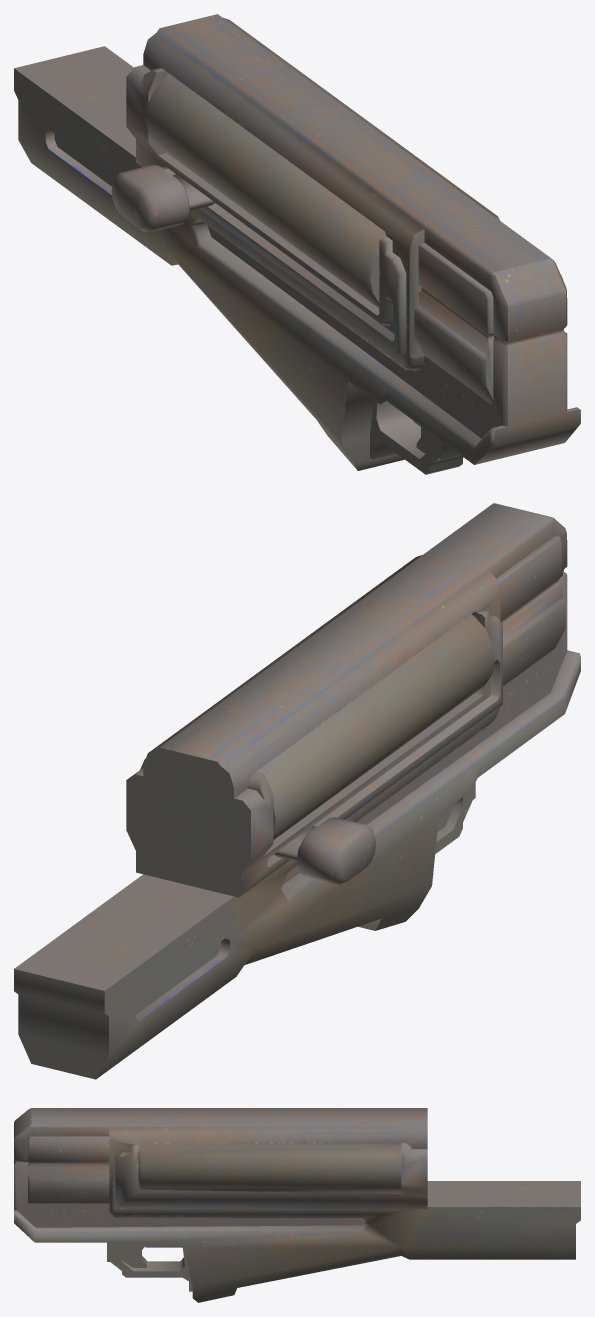
Rendered from body2.obj.
3 views of the same model, one above another, from view 1: azimuth 30°, elevation 25°; view 2: azimuth 150°, elevation 25°; view 3: azimuth 270°, elevation 25° (orthographic). The views are drawn at different scales.
Visible parts, largest first — view 1: body2; view 2: body2; view 3: body2.
Part boxes in pixels (x1,y1,x2,y2): body2: (14, 14, 580, 474); body2: (14, 503, 580, 1079); body2: (14, 1108, 580, 1302).
Size of the model in its own units: 9.01 by 14.5 by 41.5.
